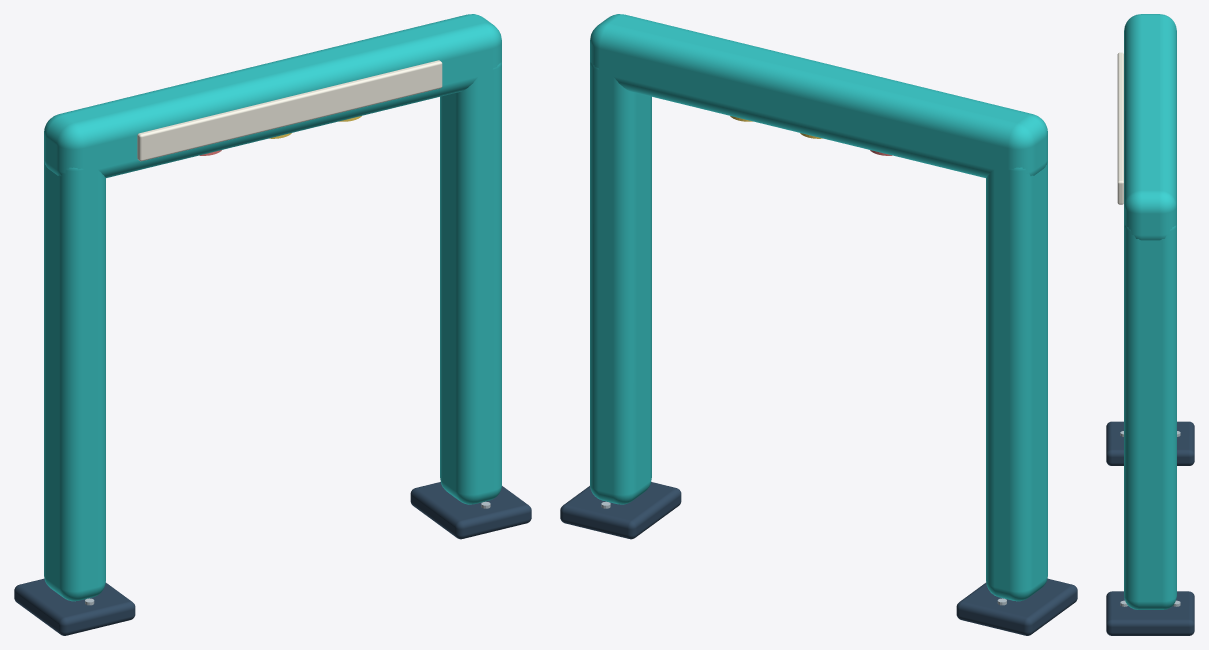
Rendered from party-obstacle-course-party-obstacle-course-start-gate-3a5ac90e__28941.glb.
3 views of the same model, side by side, from view 1: azimuth 30°, elevation 25°; view 2: azimuth 150°, elevation 25°; view 3: azimuth 270°, elevation 25° (orthographic). The views are drawn at different scales.
Parts seen in each view (by area): view 1: party-obstacle-course-start-gate; view 2: party-obstacle-course-start-gate; view 3: party-obstacle-course-start-gate.
Part boxes in pixels (x1,y1,x2,y2): party-obstacle-course-start-gate: [14, 14, 531, 635]; party-obstacle-course-start-gate: [560, 14, 1077, 635]; party-obstacle-course-start-gate: [1106, 14, 1194, 635].
Size of the model in its own units: 4.05 by 4.05 by 0.75.
